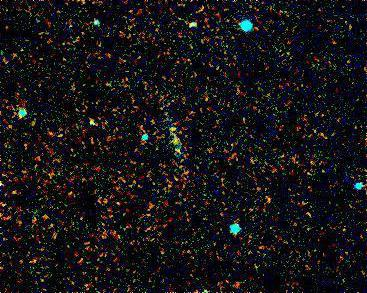star: (152, 117, 182, 147)
